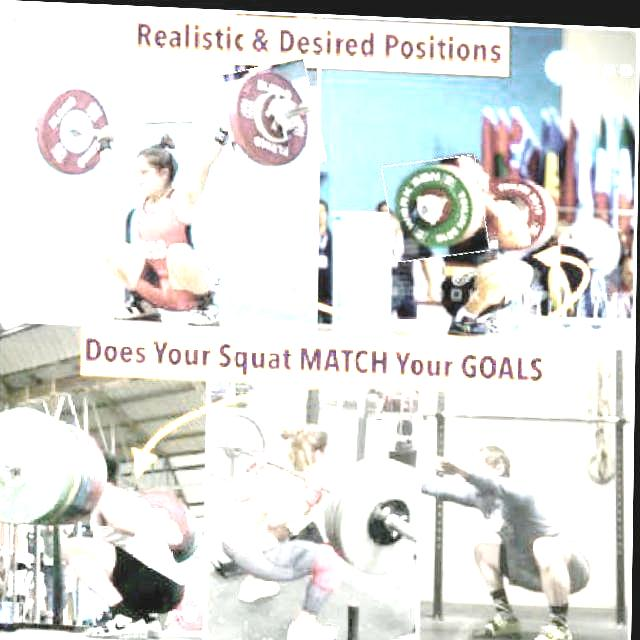barbell: (22, 70, 125, 187), (222, 59, 324, 175), (385, 151, 489, 257)
